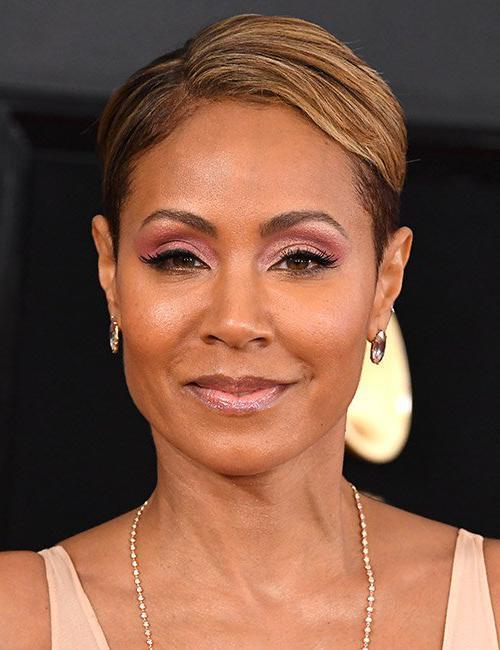Sober: (128, 123, 372, 476)
